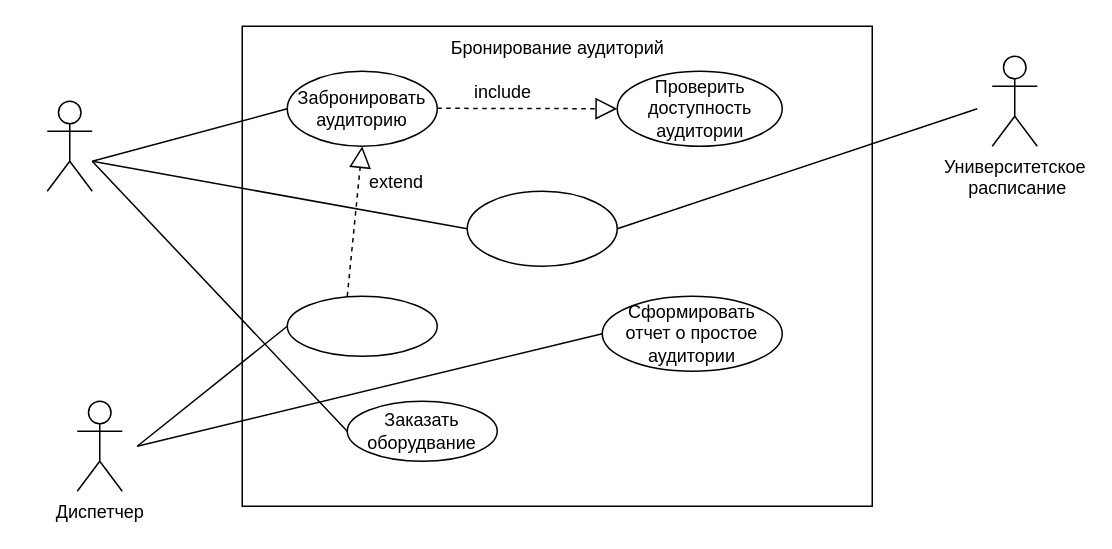
Image size: 1112x549. Some labels were removed from this diagram. The box of each missing label's shape, as (x1, y1, x2, y2) in pixels:
Отменить бронь: (286, 295, 437, 356)
Посмотреть свободные аудитории: (466, 190, 617, 266)
Сотрудник: (46, 100, 92, 191)
